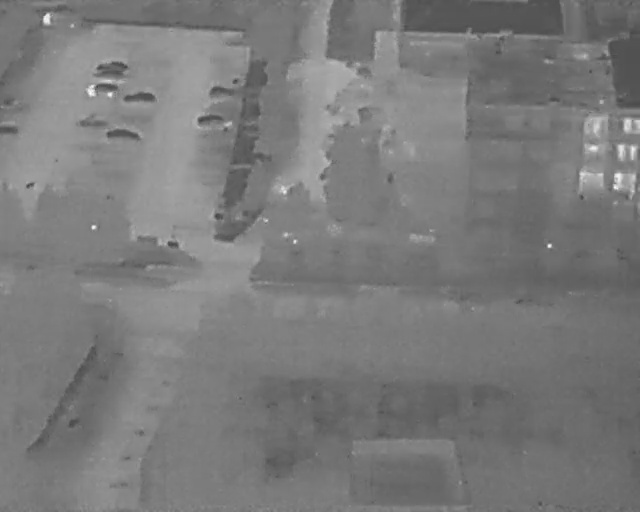Car: (106, 128, 142, 145), (86, 83, 119, 99), (196, 115, 227, 130), (123, 92, 157, 104), (96, 61, 129, 73), (209, 85, 235, 100), (92, 71, 126, 82)
